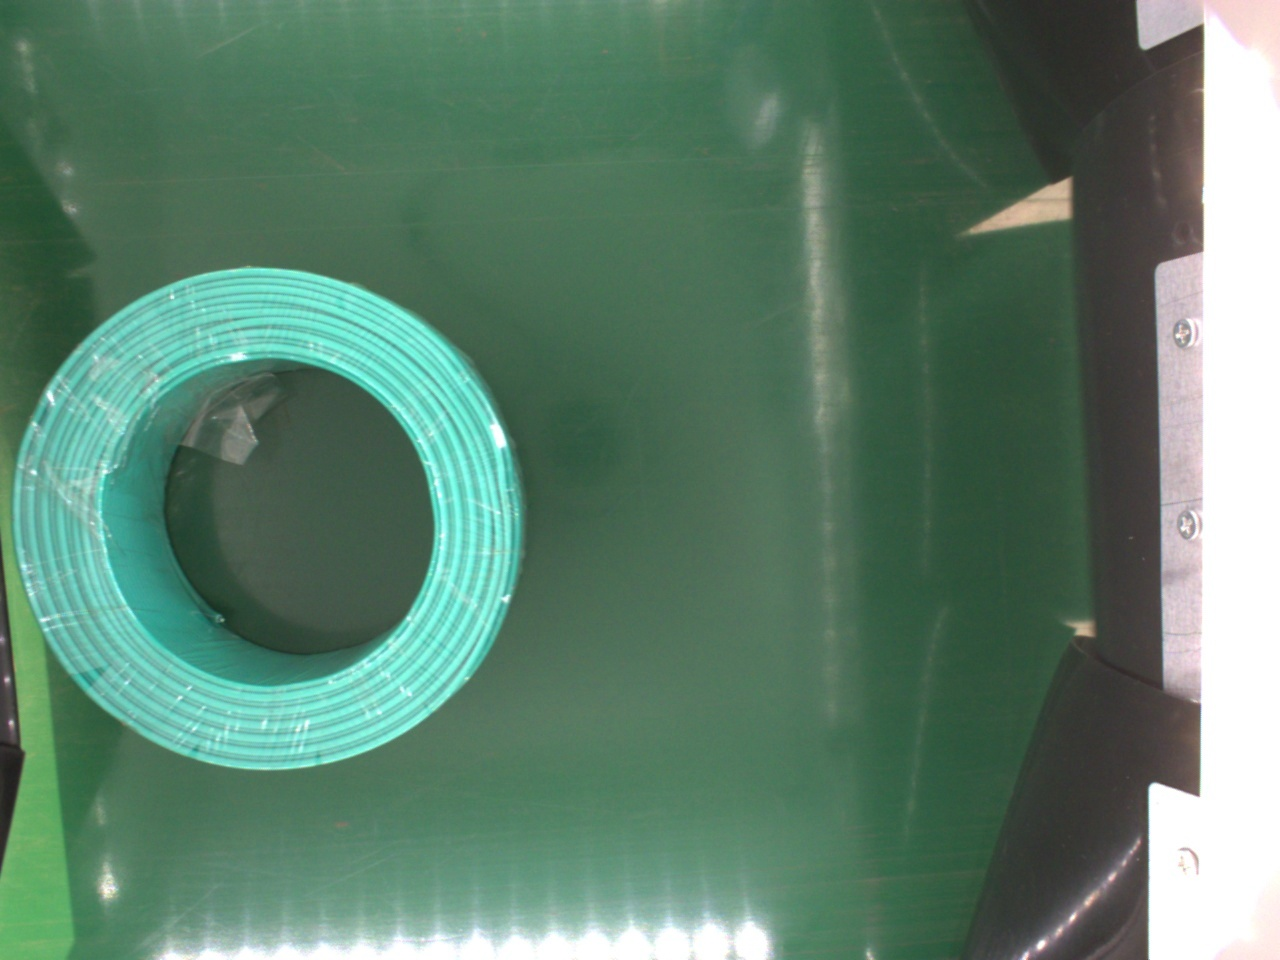green: (8, 267, 522, 771)
